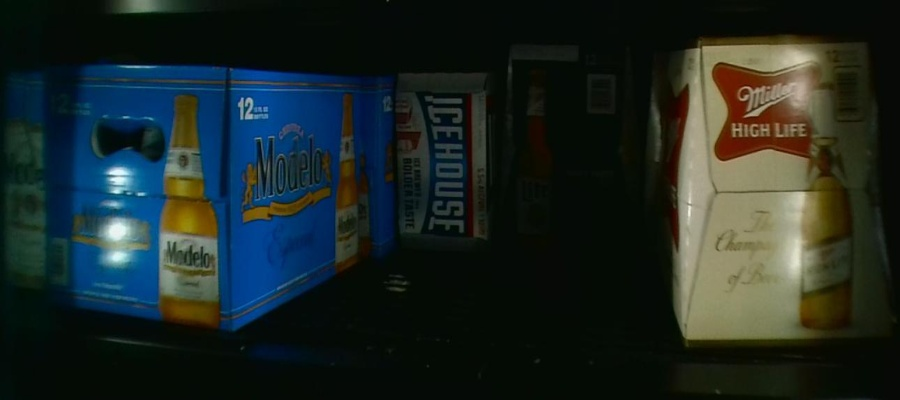bottle: (3, 60, 376, 322), (646, 38, 890, 346), (508, 43, 638, 256), (390, 71, 495, 256)
